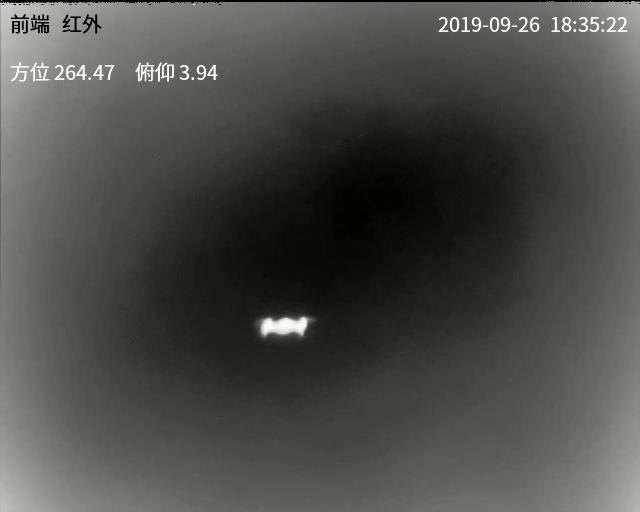DRONE: (261, 314, 310, 336)
